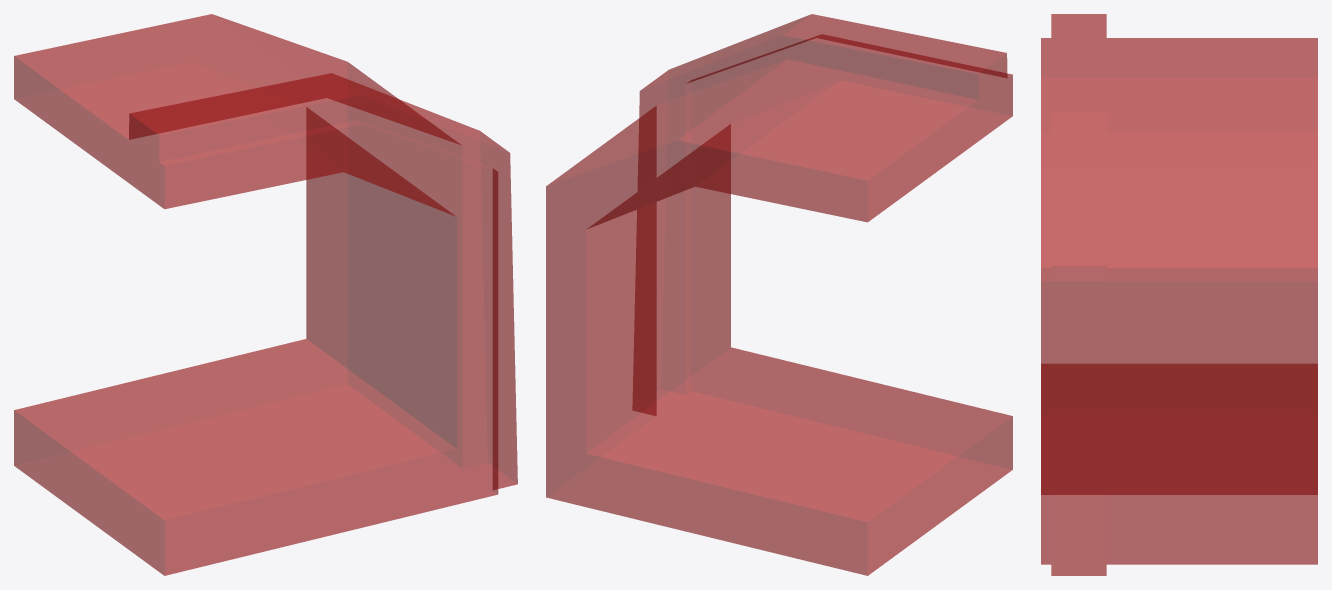
File: SM_Env_Motorway_Tunnel_Edge_01_Collision.fbx
The picture shows the model from 3 angles, left to right: view 1: azimuth 30°, elevation 25°; view 2: azimuth 150°, elevation 25°; view 3: azimuth 270°, elevation 25°; orthographic projection. The views are drawn at different scales.
Parts seen in each view (by area): view 1: SM_Env_Motorway_Tunnel_Edge_01_Collision; view 2: SM_Env_Motorway_Tunnel_Edge_01_Collision; view 3: SM_Env_Motorway_Tunnel_Edge_01_Collision.
Part boxes in pixels (left/top/right/bottom): SM_Env_Motorway_Tunnel_Edge_01_Collision: left=14, top=14, right=517, bottom=575; SM_Env_Motorway_Tunnel_Edge_01_Collision: left=546, top=14, right=1012, bottom=575; SM_Env_Motorway_Tunnel_Edge_01_Collision: left=1041, top=14, right=1317, bottom=575.
Bounding box in the file's own units: 688 × 799 × 500.
